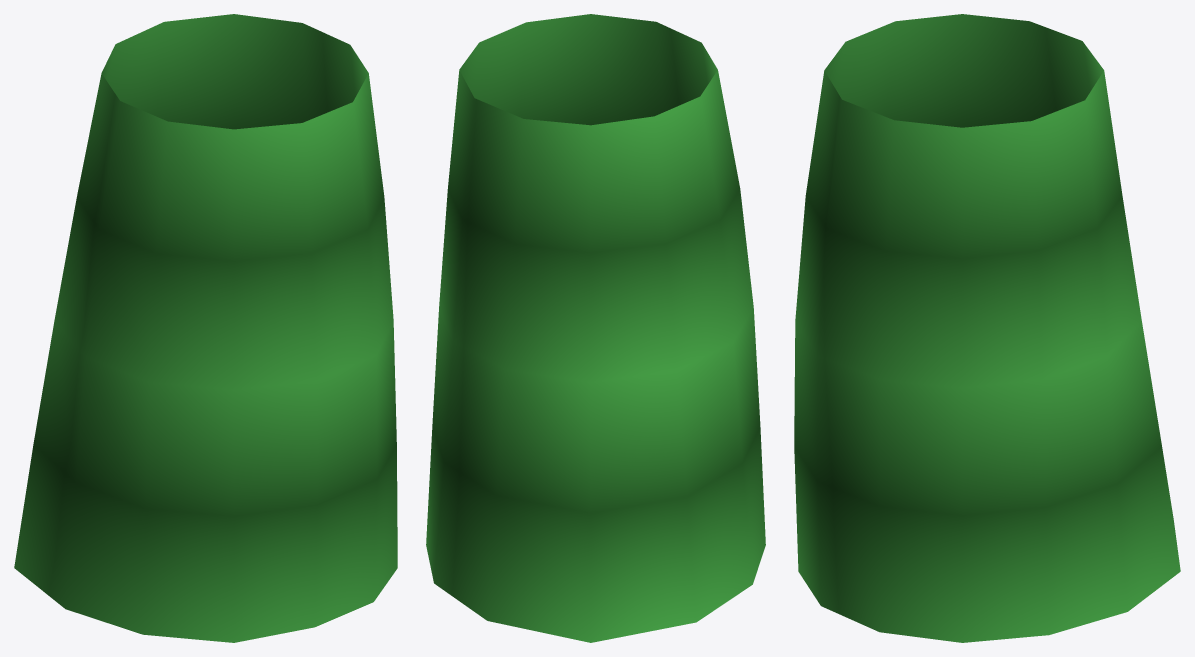
Rendered from chlorophyte_armor_cuisse.R.glb.
3 views of the same model, side by side, from view 1: azimuth 30°, elevation 25°; view 2: azimuth 150°, elevation 25°; view 3: azimuth 270°, elevation 25° (orthographic). The views are drawn at different scales.
Parts seen in each view (by area): view 1: chlorophyte_armor_cuisse.R; view 2: chlorophyte_armor_cuisse.R; view 3: chlorophyte_armor_cuisse.R.
Part boxes in pixels (box(x1,y1,x2,y2)): chlorophyte_armor_cuisse.R: box(14, 14, 397, 642); chlorophyte_armor_cuisse.R: box(426, 14, 765, 642); chlorophyte_armor_cuisse.R: box(794, 14, 1180, 642).
Bounding box in the file's own units: 0.2449 × 0.37 × 0.2586.
